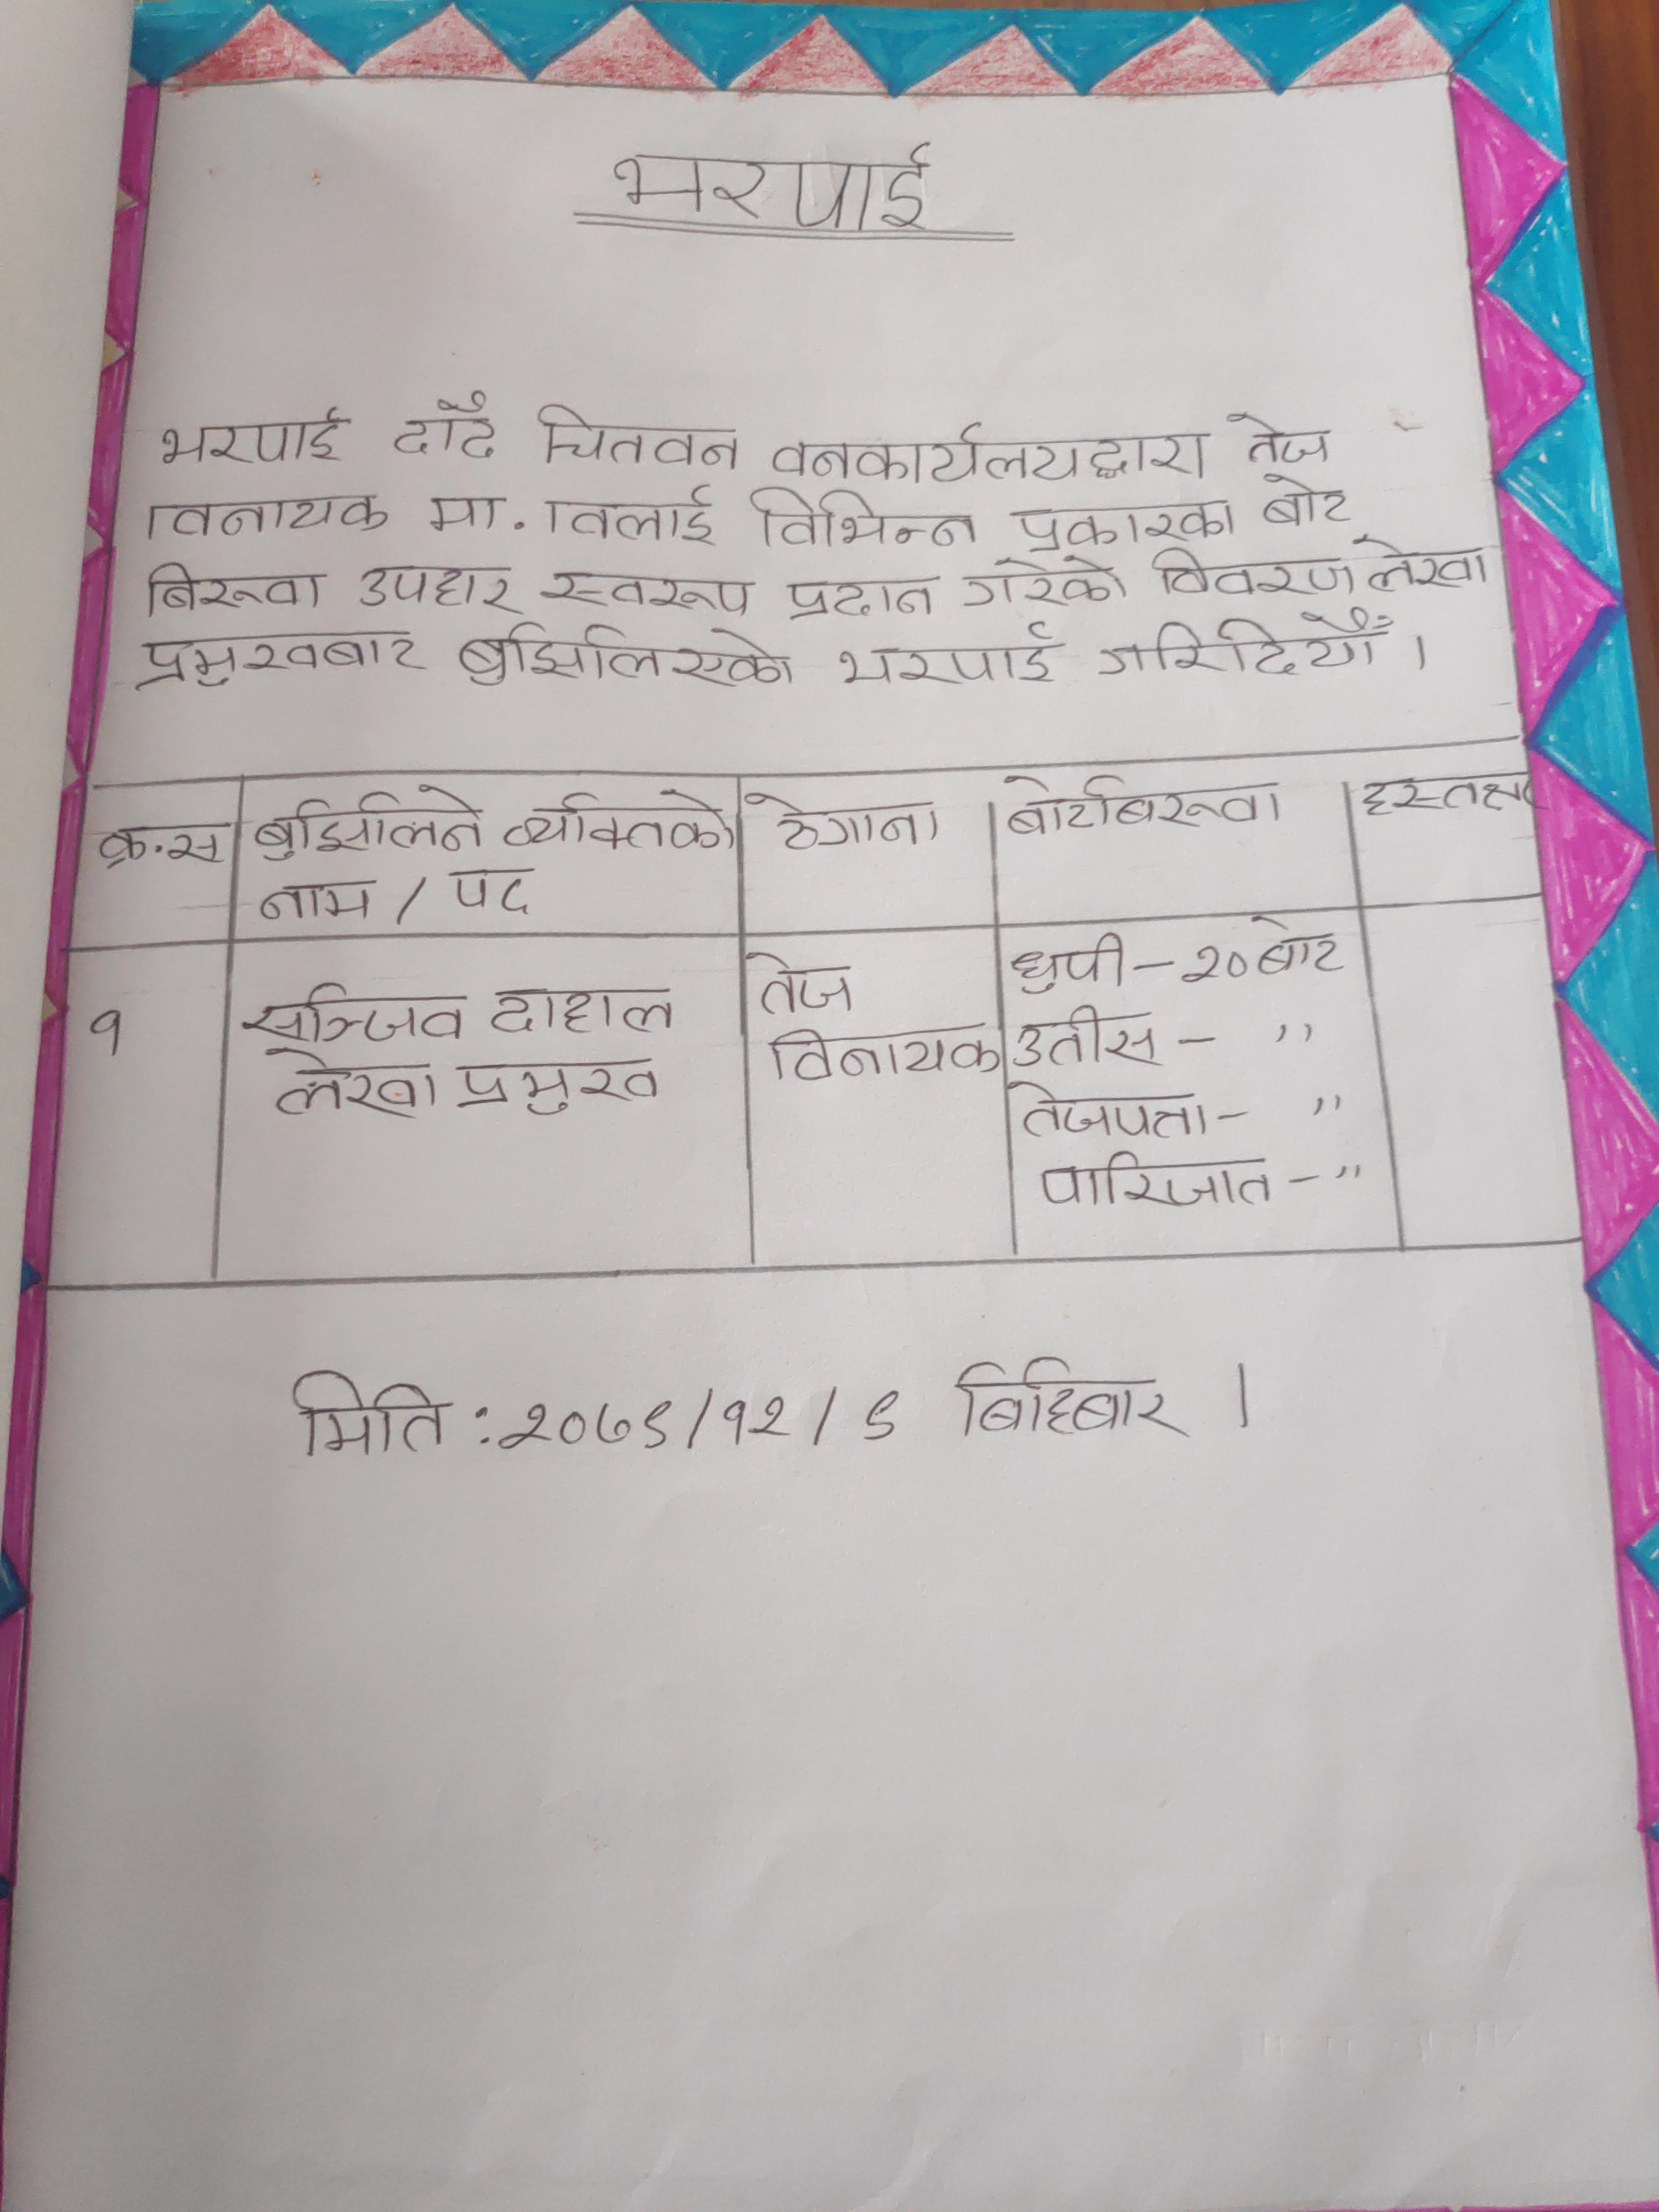text: (603, 136, 943, 235), (765, 418, 1213, 482), (497, 1378, 906, 1446), (453, 624, 796, 693), (955, 1350, 1195, 1444), (999, 768, 1283, 843), (246, 780, 490, 860), (742, 477, 979, 559), (1087, 617, 1399, 678), (134, 629, 432, 690), (826, 620, 1068, 695), (500, 786, 739, 857), (532, 397, 746, 475), (756, 1021, 1002, 1085), (282, 1366, 448, 1460), (1004, 491, 1244, 556), (1032, 1150, 1276, 1211), (136, 484, 392, 542), (256, 1043, 443, 1122), (1007, 1071, 1209, 1143), (240, 982, 471, 1045), (739, 782, 939, 852), (453, 1049, 657, 1116), (540, 479, 720, 552), (538, 559, 760, 617), (150, 404, 354, 465), (141, 563, 338, 622), (1007, 1001, 1166, 1075), (1354, 768, 1551, 826), (488, 982, 678, 1040), (1147, 550, 1358, 601), (356, 554, 523, 617), (962, 556, 1134, 613), (1002, 927, 1134, 1000), (742, 939, 857, 1021), (390, 387, 500, 467), (1356, 529, 1495, 592), (772, 575, 945, 625), (89, 812, 228, 873), (244, 871, 380, 927), (1220, 408, 1335, 470), (1253, 911, 1349, 982), (1256, 465, 1356, 531), (443, 859, 542, 920), (415, 489, 511, 538), (1183, 928, 1251, 991)
